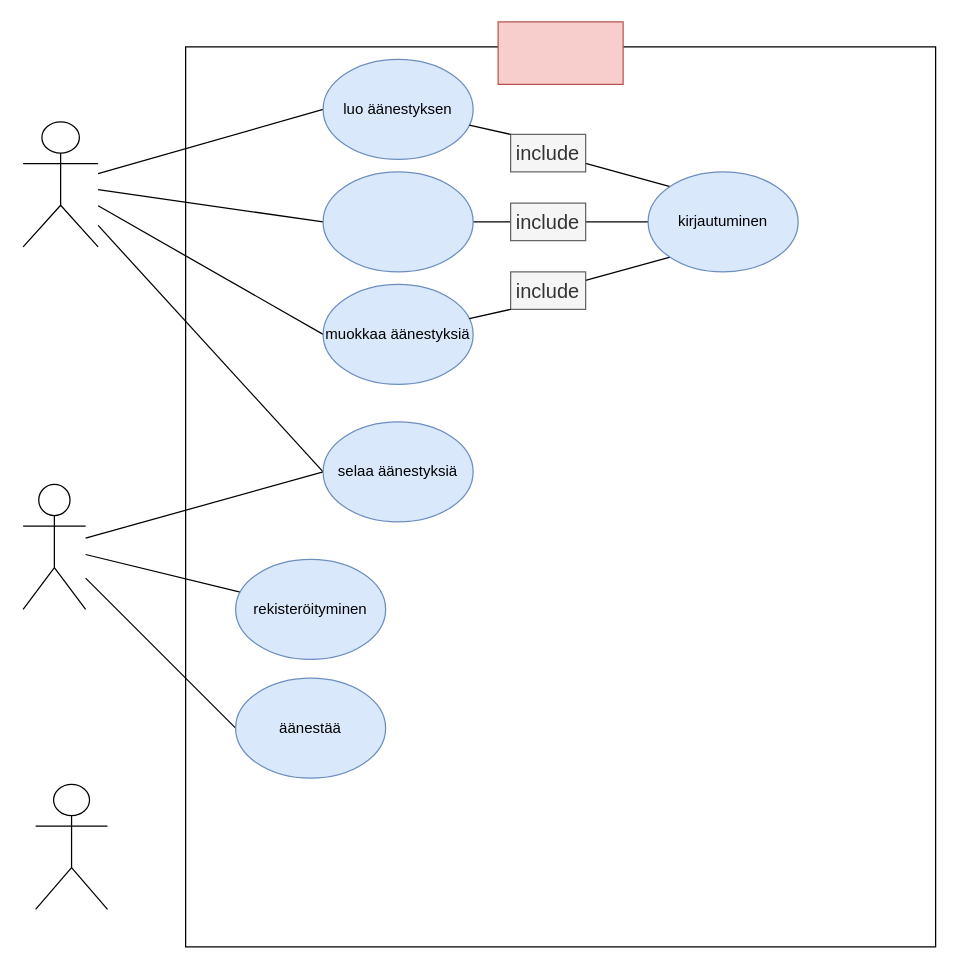
The diagram is 958 pixels wide and 969 high, and some of its shapes have lost their labels. Each missing label, with the box of its shape:
admin: (34, 783, 108, 909)
poistaa äänestyksen: (322, 171, 473, 272)
tekijä: (22, 121, 98, 247)
voteapp: (497, 21, 623, 84)
äänestäjä: (22, 483, 86, 609)
